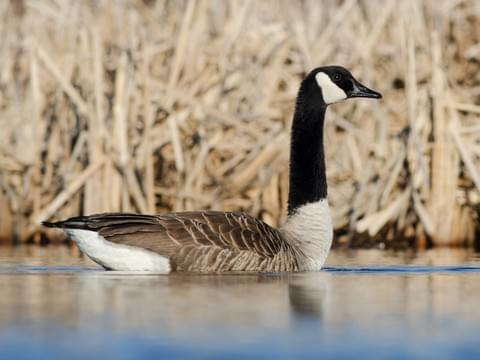goose: (37, 64, 385, 277)
